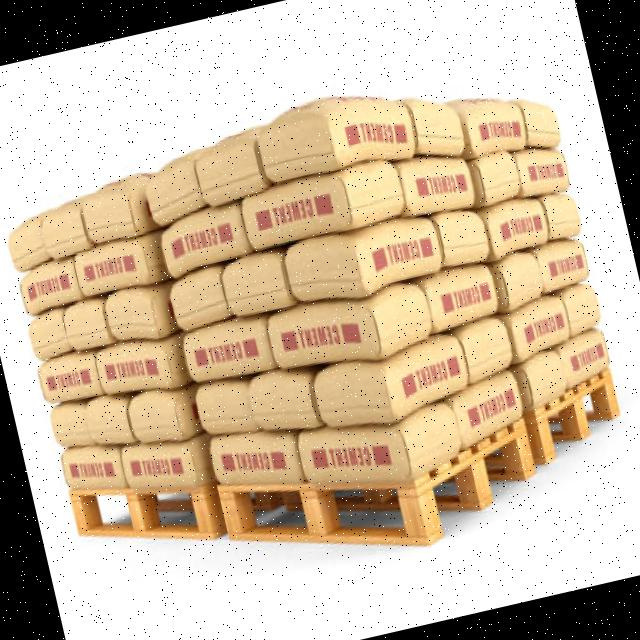Wooden-Pallets: (66, 371, 622, 548), (218, 415, 539, 548), (60, 479, 220, 557), (527, 361, 627, 467)
